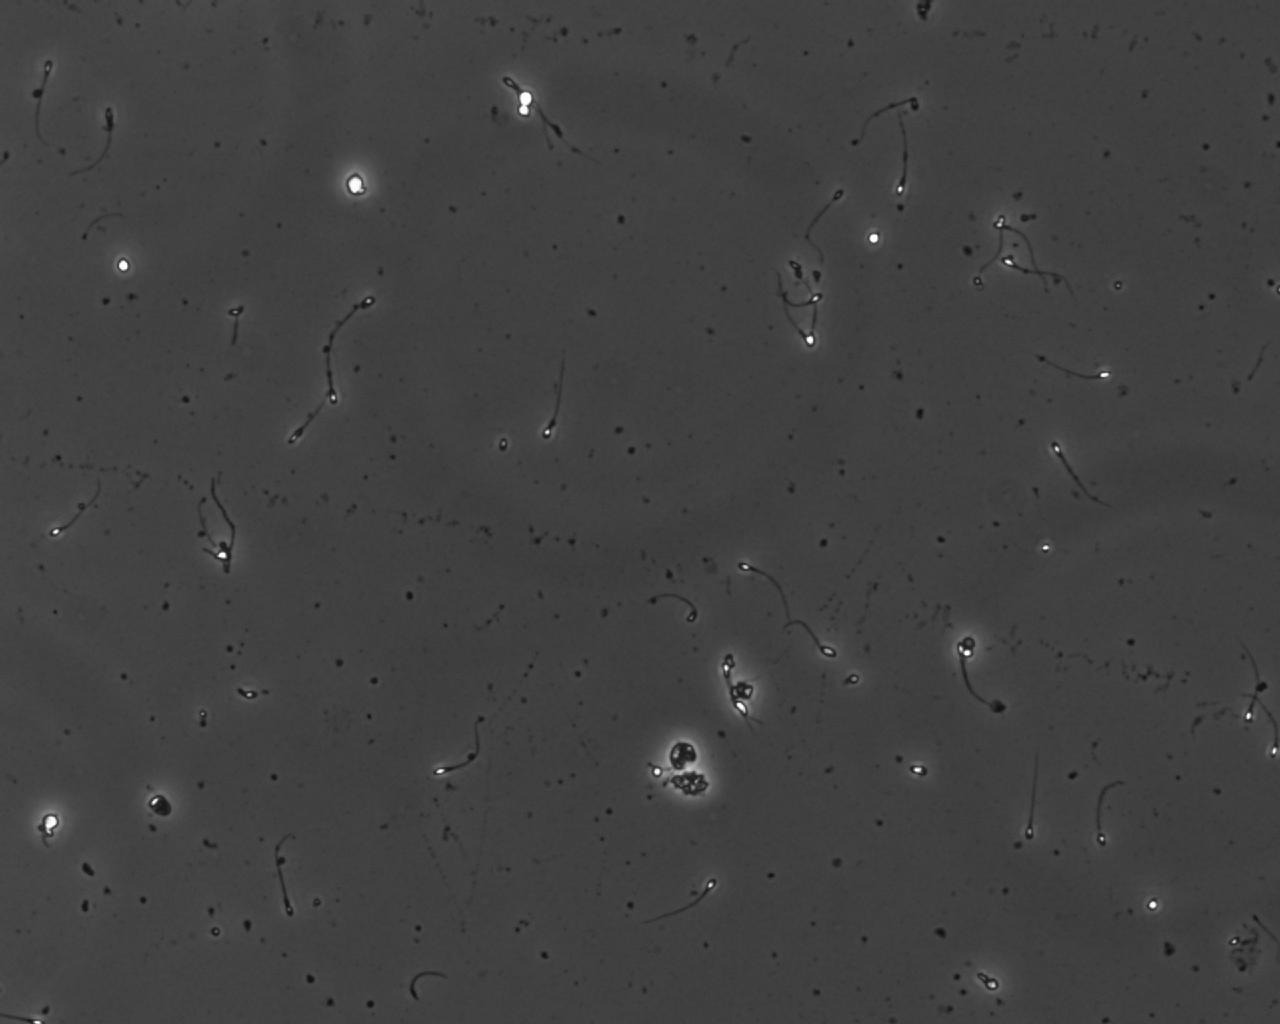cell: (664, 736, 703, 777), (145, 790, 176, 821), (342, 169, 369, 200), (514, 85, 538, 110), (112, 253, 135, 277), (513, 101, 534, 121), (863, 228, 884, 248)
